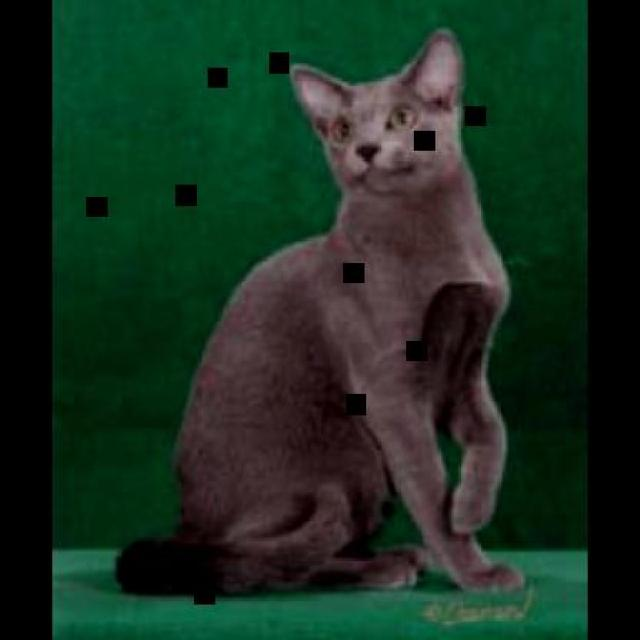unauthorized: (112, 26, 525, 599)
